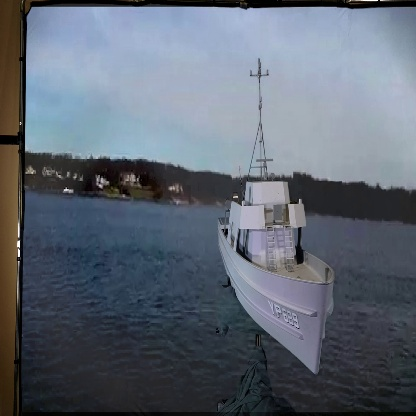YP689: (218, 65, 335, 374)
